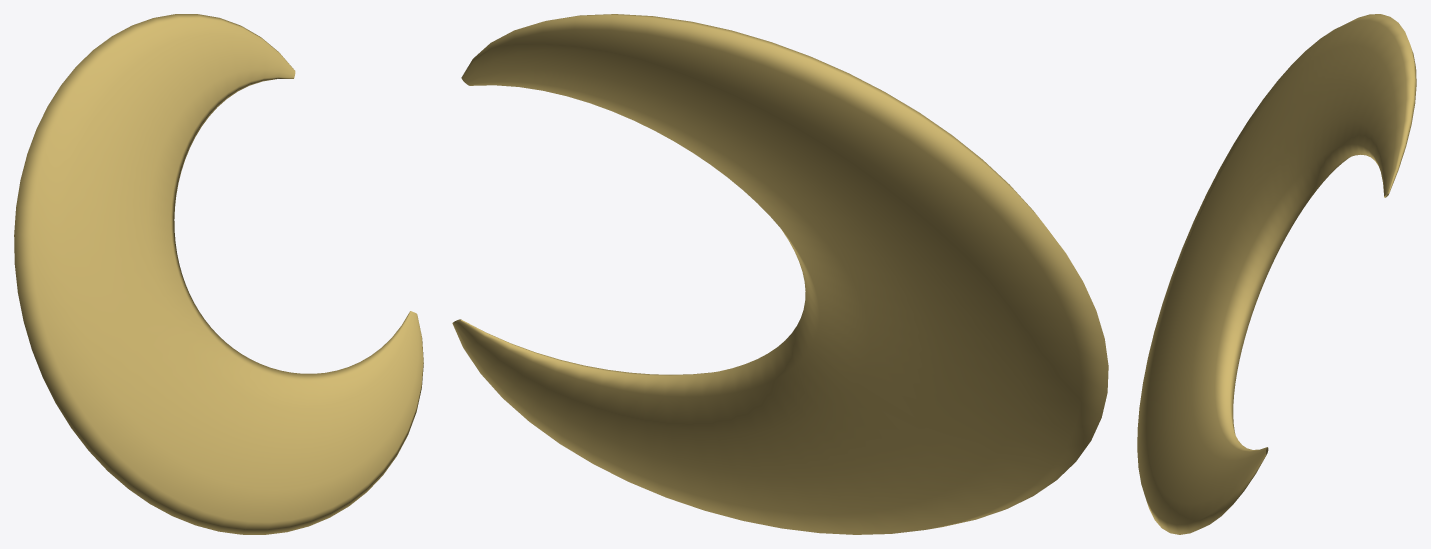
The model's file is MOON.fbx.
3 views of the same model, side by side, from view 1: azimuth 30°, elevation 25°; view 2: azimuth 150°, elevation 25°; view 3: azimuth 270°, elevation 25° (orthographic). The views are drawn at different scales.
Visible parts, largest first — view 1: NurbsPath; view 2: NurbsPath; view 3: NurbsPath.
Boxes of the visible parts, <box> form: NurbsPath: <box>14,14,423,534</box>; NurbsPath: <box>452,14,1108,534</box>; NurbsPath: <box>1137,14,1416,534</box>.
Size of the model in its own units: 4.62 by 4.65 by 2.62.
